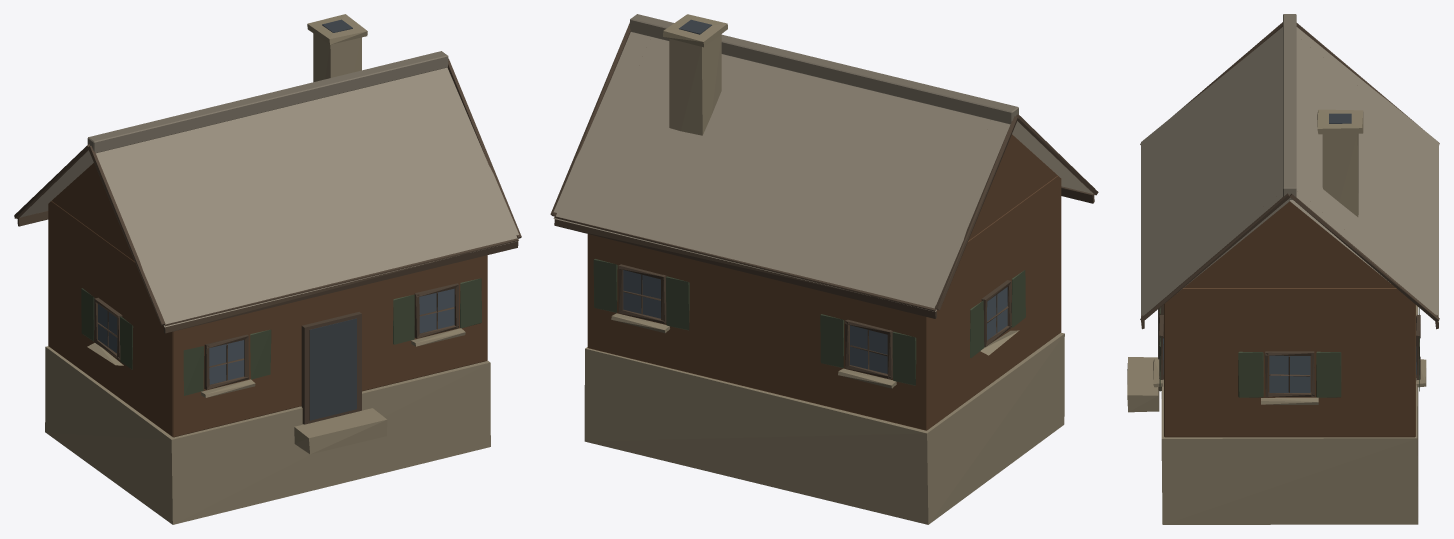
File: house-stone-lod1.glb
The picture shows the model from 3 angles, left to right: view 1: azimuth 30°, elevation 25°; view 2: azimuth 150°, elevation 25°; view 3: azimuth 270°, elevation 25°; orthographic projection. The views are drawn at different scales.
Size of the model in its own units: 9.14 by 9.02 by 6.82.
